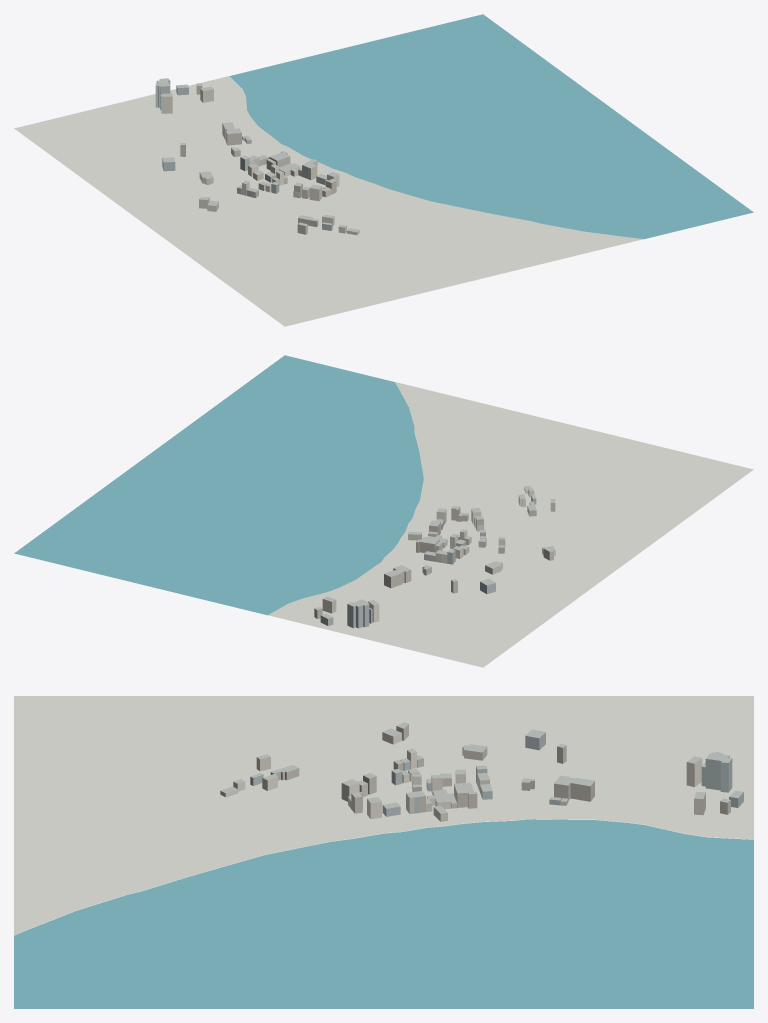
The picture shows the model from 3 angles, top to bottom: view 1: azimuth 30°, elevation 25°; view 2: azimuth 150°, elevation 25°; view 3: azimuth 270°, elevation 25°; orthographic projection. The views are drawn at different scales.
Parts seen in each view (by area): view 1: city; view 2: city; view 3: city.
Part boxes in pixels (x1,y1,x2,y2): city: (14, 14, 753, 326); city: (14, 355, 753, 667); city: (14, 696, 753, 1008).
Bounding box in the file's own units: 500 × 22.28 × 500.
